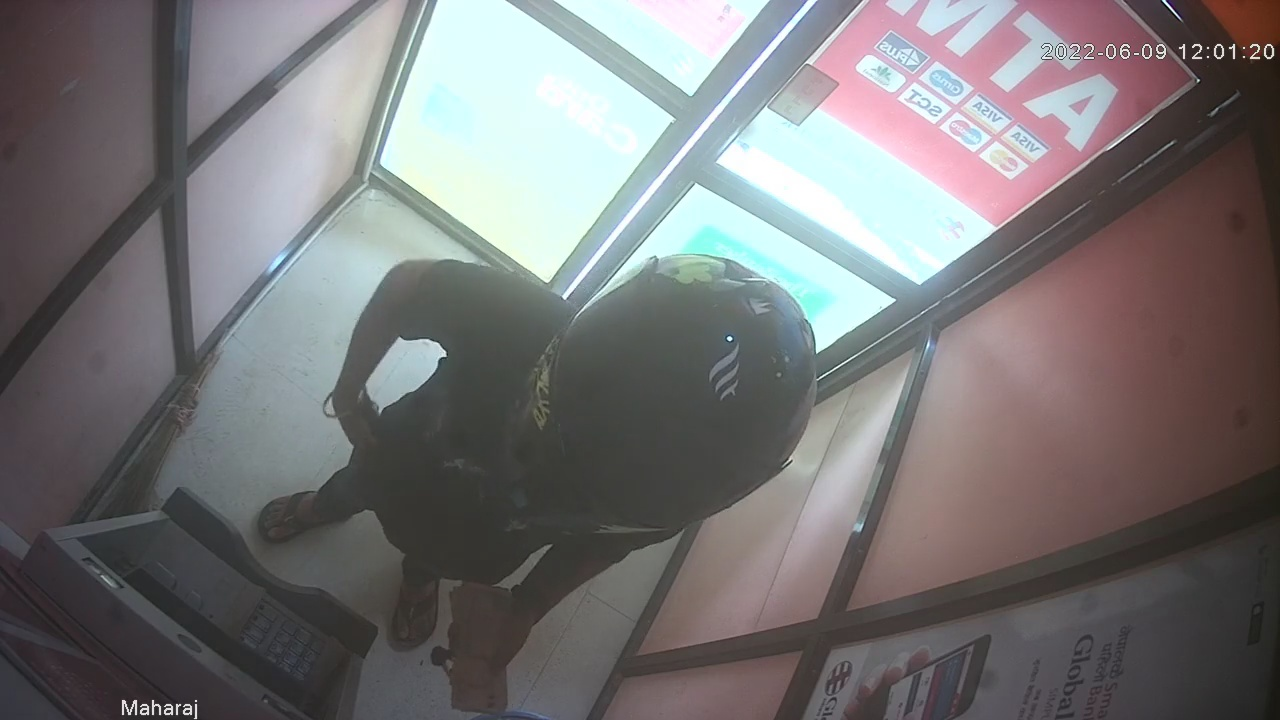helmet: (510, 251, 816, 538)
person: (256, 251, 817, 715)
